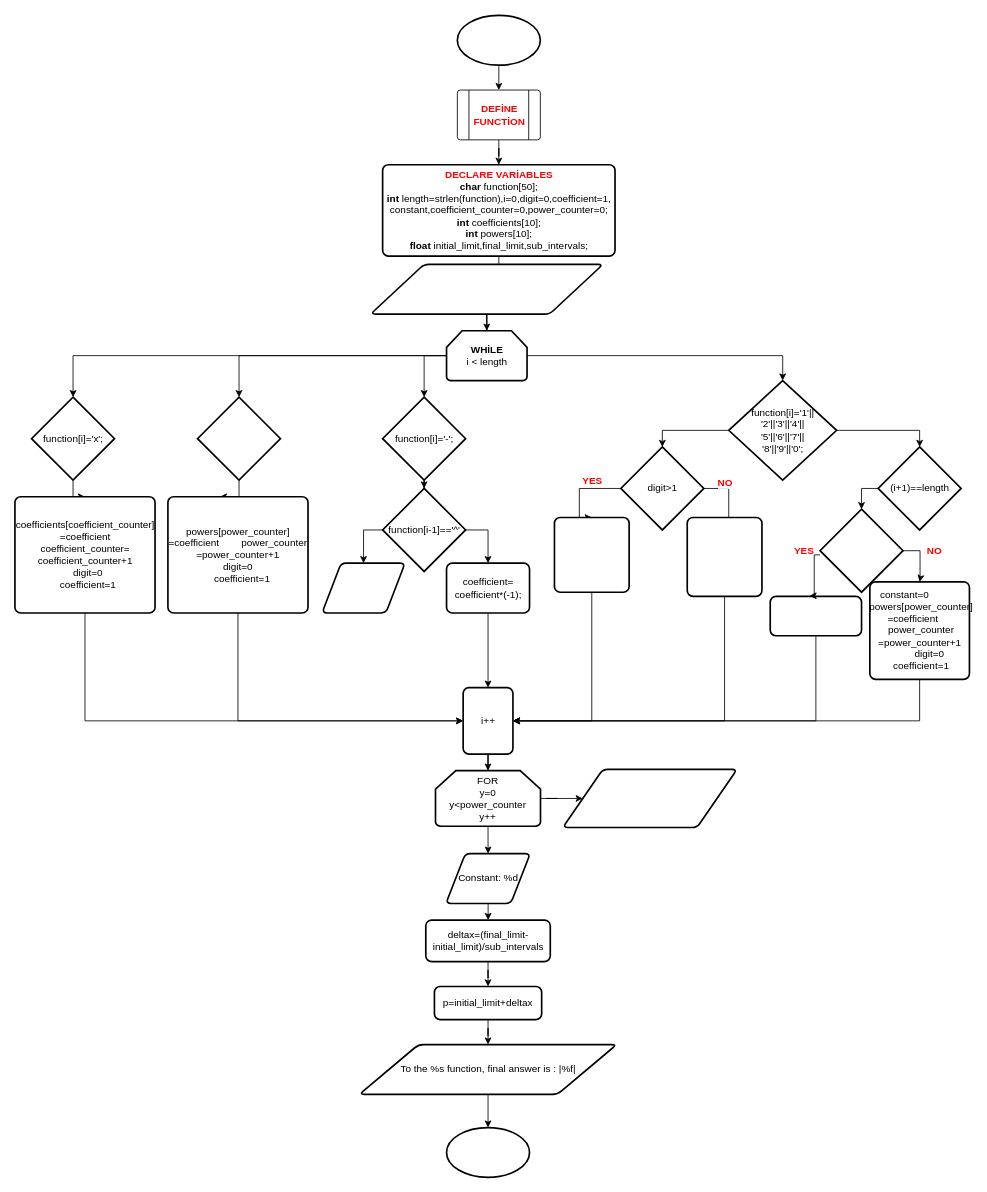
The diagram is 987 pixels wide and 1192 high, and some of its shapes have lost their labels. The shapes that lost their labels are listed below. From the top down, each one's box as (x1, y1, x2, y2) in pixels, then its label:
(456, 14, 541, 66): START
(369, 263, 603, 315): ENTER function,initial_limit,final_limit, sub_intervals
(196, 396, 281, 481): function[i]='+';
(553, 516, 630, 593): coefficient = coefficient*10; coefficient = coefficient+(function [i]-'0');
(686, 516, 762, 597): coefficient = coefficient*(function[i]-'0');
(819, 508, 903, 593): function[i-1]!='^'
(321, 562, 405, 613): PRİNT ERROR
(769, 595, 862, 636): constant=coefficient;
(561, 768, 737, 828): Coefficient of %d. number: %d -- Power: %d \n
(445, 1126, 530, 1178): END
